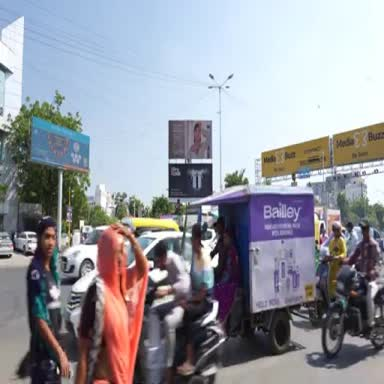Car: (61, 226, 107, 279), (137, 231, 182, 268), (15, 232, 37, 254), (0, 232, 14, 258), (202, 229, 217, 249)
